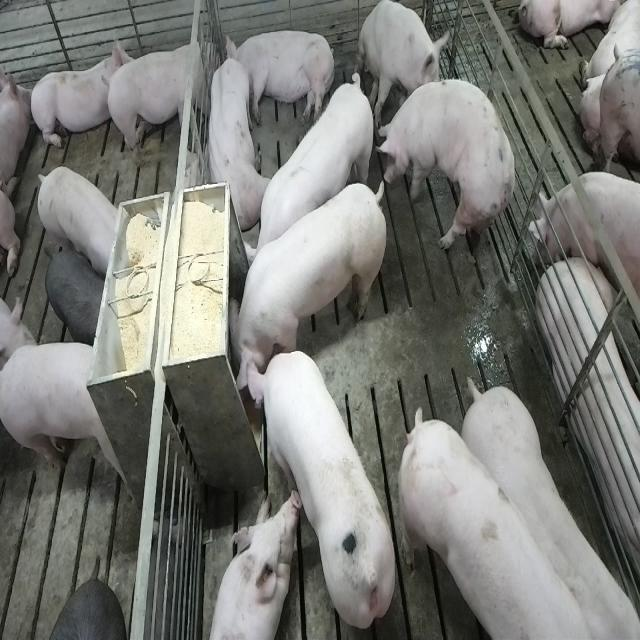Feeding: (240, 347, 400, 631), (220, 175, 384, 395)
Lateral_lying: (539, 255, 640, 597), (225, 28, 337, 128)
Sitting: (354, 2, 449, 128)
Standing: (457, 379, 638, 640), (246, 67, 378, 283), (379, 78, 522, 266), (0, 341, 126, 494), (105, 32, 217, 170), (532, 170, 640, 308), (35, 164, 126, 276), (44, 244, 108, 346)
Sternal_lying: (206, 490, 296, 640), (28, 36, 125, 154), (203, 51, 266, 231)
